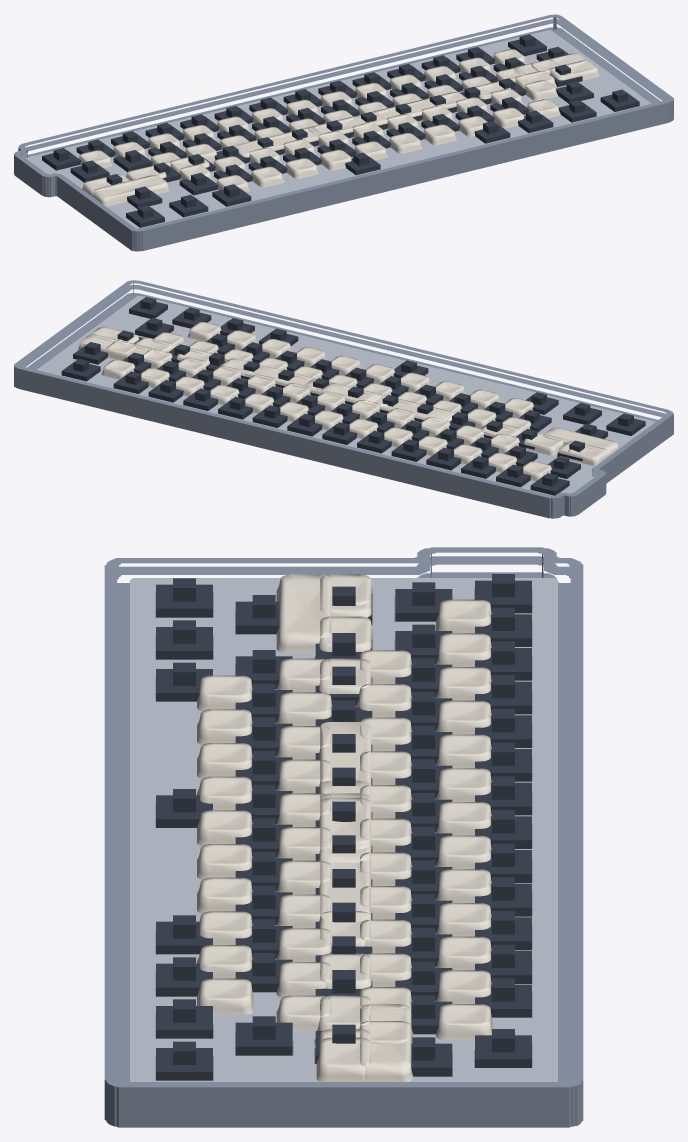
Rendered from wooting-60he-v2.glb.
The picture shows the model from 3 angles, top to bottom: view 1: azimuth 30°, elevation 25°; view 2: azimuth 150°, elevation 25°; view 3: azimuth 270°, elevation 25°; orthographic projection. The views are drawn at different scales.
Parts seen in each view (by area): view 1: switches/switches, bottomCase/case-bottom, keycaps/keycaps-0, plate/plate-placeholder, topCase/case-top, keycaps/keycaps-6, keycaps/keycaps-4, keycaps/keycaps-7, keycaps/keycaps-2; view 2: switches/switches, bottomCase/case-bottom, keycaps/keycaps-0, plate/plate-placeholder, topCase/case-top, keycaps/keycaps-6, keycaps/keycaps-7, keycaps/keycaps-4, keycaps/keycaps-2; view 3: switches/switches, keycaps/keycaps-0, bottomCase/case-bottom, plate/plate-placeholder, topCase/case-top, keycaps/keycaps-6, keycaps/keycaps-4, keycaps/keycaps-7, keycaps/keycaps-2, keycaps/keycaps-5, keycaps/keycaps-3.
Part boxes in pixels (left/top/right/bottom): switches/switches: left=42, top=34, right=639, bottom=227; bottomCase/case-bottom: left=14, top=14, right=673, bottom=251; keycaps/keycaps-0: left=79, top=49, right=560, bottom=191; plate/plate-placeholder: left=26, top=30, right=651, bottom=228; topCase/case-top: left=14, top=19, right=672, bottom=247; keycaps/keycaps-6: left=86, top=61, right=599, bottom=196; keycaps/keycaps-4: left=92, top=53, right=587, bottom=206; keycaps/keycaps-7: left=234, top=98, right=446, bottom=157; keycaps/keycaps-2: left=82, top=60, right=597, bottom=195; switches/switches: left=61, top=297, right=645, bottom=495; bottomCase/case-bottom: left=14, top=280, right=673, bottom=518; keycaps/keycaps-0: left=101, top=322, right=551, bottom=481; plate/plate-placeholder: left=37, top=296, right=655, bottom=495; topCase/case-top: left=14, top=284, right=673, bottom=514; keycaps/keycaps-6: left=94, top=334, right=608, bottom=457; keycaps/keycaps-7: left=242, top=365, right=455, bottom=422; keycaps/keycaps-4: left=78, top=334, right=618, bottom=455; keycaps/keycaps-2: left=90, top=327, right=607, bottom=466; switches/switches: left=156, top=574, right=531, bottom=1080; keycaps/keycaps-0: left=197, top=599, right=492, bottom=1049; bottomCase/case-bottom: left=104, top=547, right=583, bottom=1127; plate/plate-placeholder: left=130, top=578, right=557, bottom=1081; topCase/case-top: left=104, top=556, right=583, bottom=1119; keycaps/keycaps-6: left=314, top=579, right=373, bottom=1081; keycaps/keycaps-4: left=276, top=574, right=413, bottom=1081; keycaps/keycaps-7: left=319, top=722, right=372, bottom=921; keycaps/keycaps-2: left=314, top=574, right=373, bottom=1081; keycaps/keycaps-5: left=320, top=780, right=370, bottom=862; keycaps/keycaps-3: left=321, top=797, right=370, bottom=844.
Bounding box in the file's own units: 1e+07 × 428836 × 3747315.
